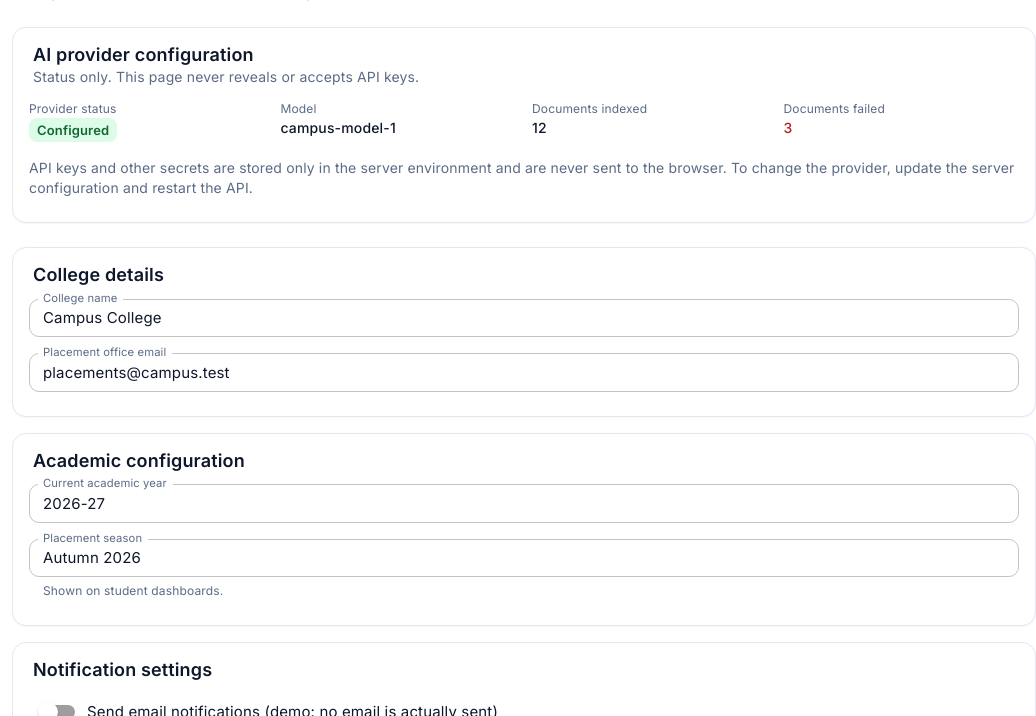
Scenario: admin system settings › a save error (422) is shown on the form and no success is claimed
Type " Autonomous" into the field labelled "College name" at (524,318), box [29,299,1019,337]
(page scrolled)
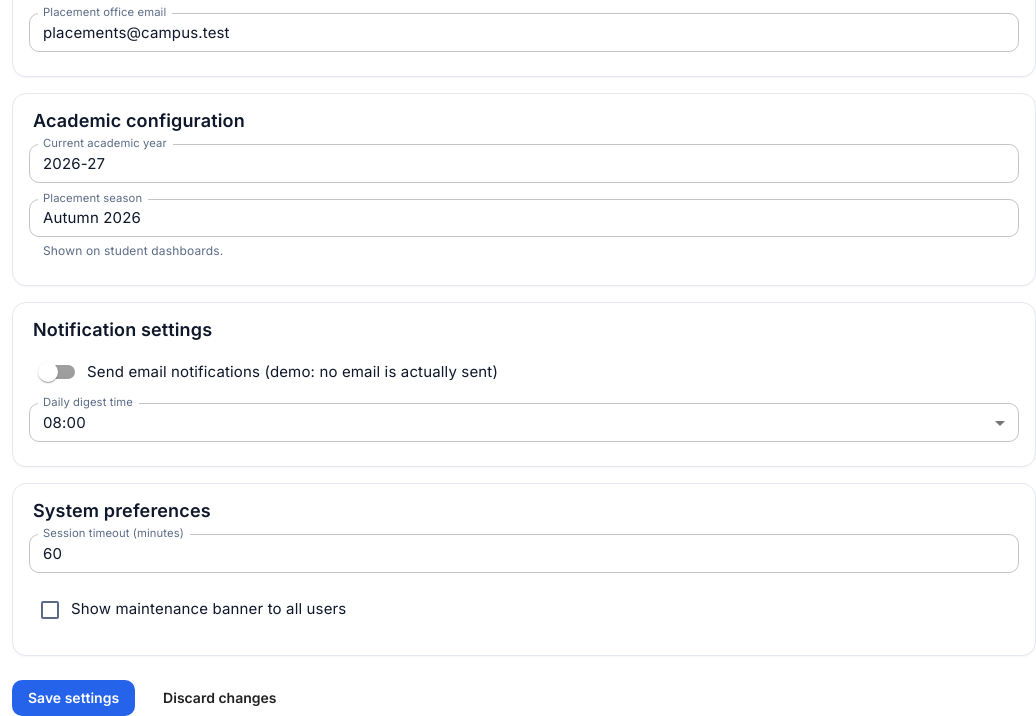
Click the button "Save settings" at (74,698), box [12,680,135,715]
(page scrolled)
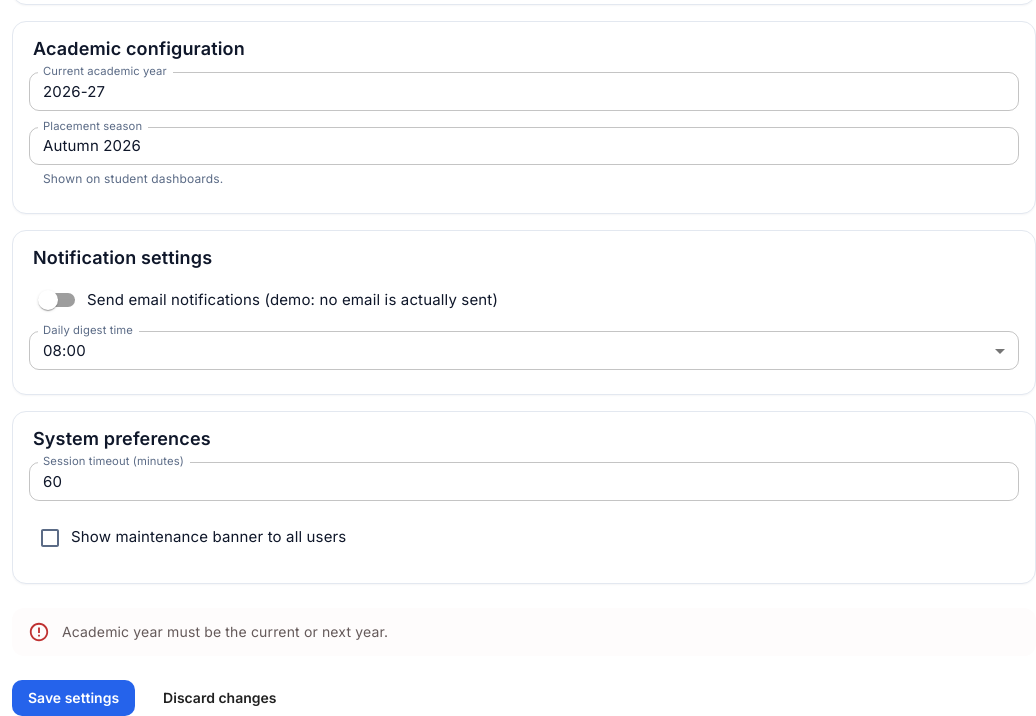
Result: the text "Academic year must be the current or next year." is shown at [62,623,388,640]
